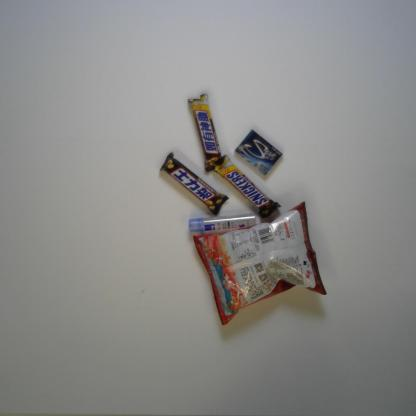Chocolate: (207, 154, 282, 219), (158, 152, 230, 217), (187, 93, 223, 173)
Gum: (234, 129, 283, 176)
Puffed Food: (192, 200, 328, 326)
Stationery: (188, 212, 256, 234)
